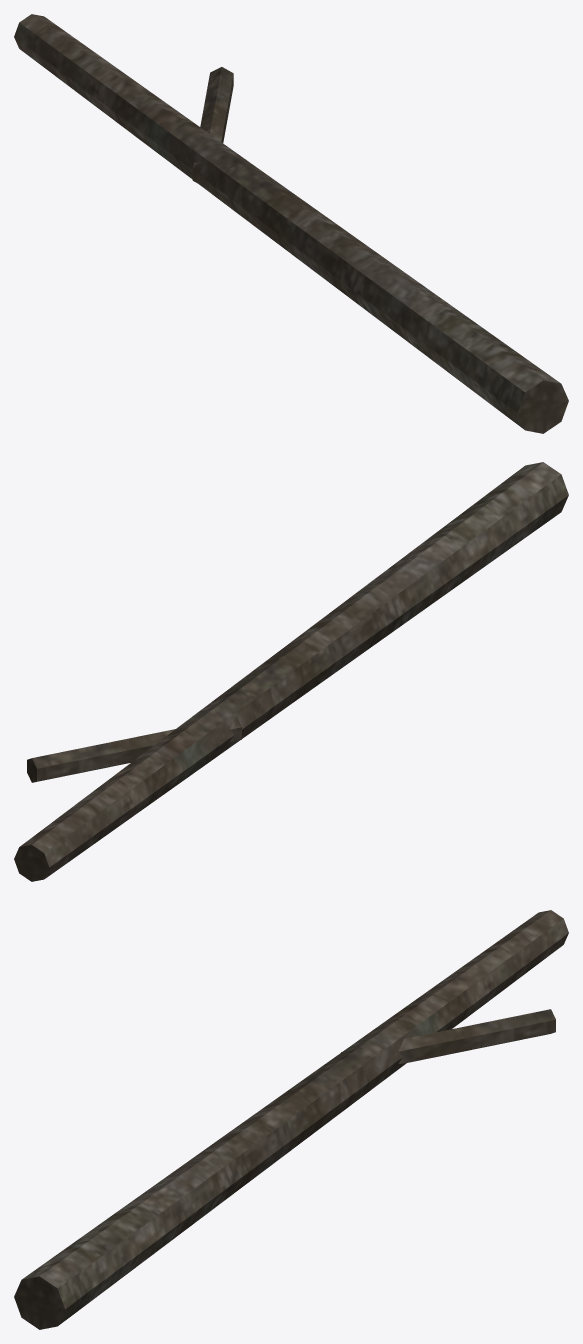
Rendered from stick.glb.
3 views of the same model, one above another, from view 1: azimuth 30°, elevation 25°; view 2: azimuth 150°, elevation 25°; view 3: azimuth 330°, elevation 25° (orthographic).
Visible parts, largest first — view 1: s, twig; view 2: s, twig; view 3: s, twig.
Boxes of the visible parts, x1,y1,x2,y2 form: s: (14, 14, 568, 433); twig: (192, 67, 233, 187); s: (14, 462, 568, 881); twig: (27, 716, 241, 782); s: (14, 910, 568, 1329); twig: (341, 1009, 555, 1063).
Size of the model in its own units: 0.0655 by 0.026 by 0.45.
2 materials, 2 textured.
